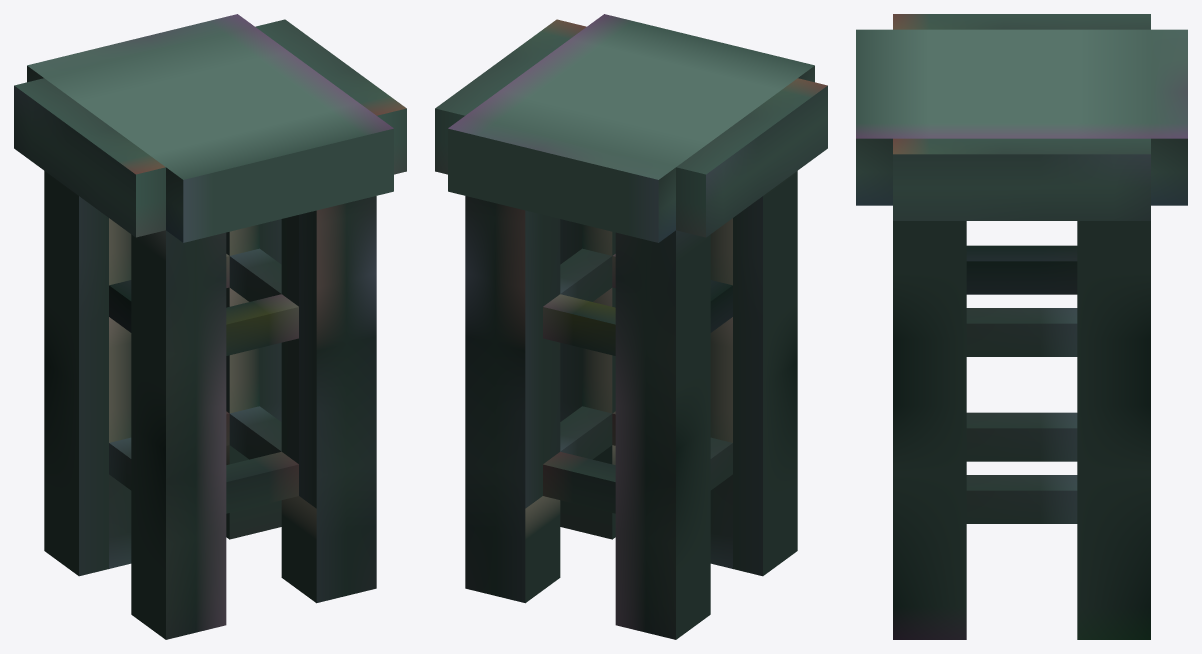
The model's file is Stool_00.fbx.
3 views of the same model, side by side, from view 1: azimuth 30°, elevation 25°; view 2: azimuth 150°, elevation 25°; view 3: azimuth 270°, elevation 25° (orthographic). The views are drawn at different scales.
Parts seen in each view (by area): view 1: Stool_00; view 2: Stool_00; view 3: Stool_00.
Part boxes in pixels (<box>): Stool_00: <box>14,14,406,639</box>; Stool_00: <box>435,14,827,639</box>; Stool_00: <box>856,14,1187,639</box>.
Size of the model in its own units: 45 by 75 by 45.
